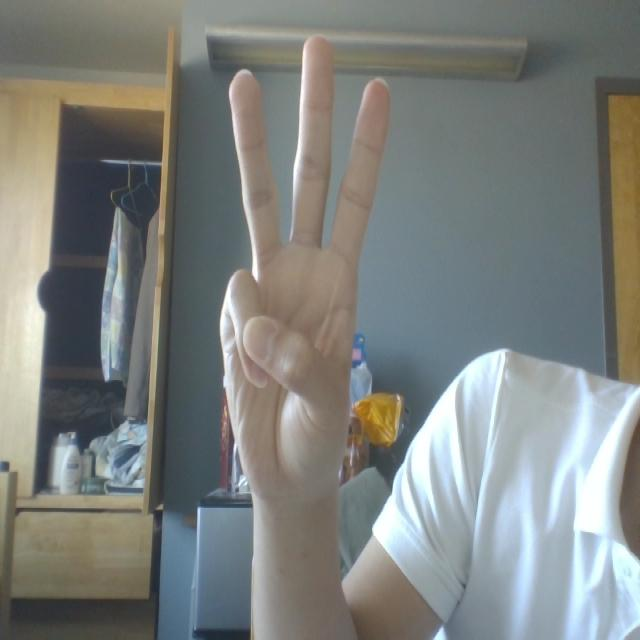W: (178, 24, 416, 505)
